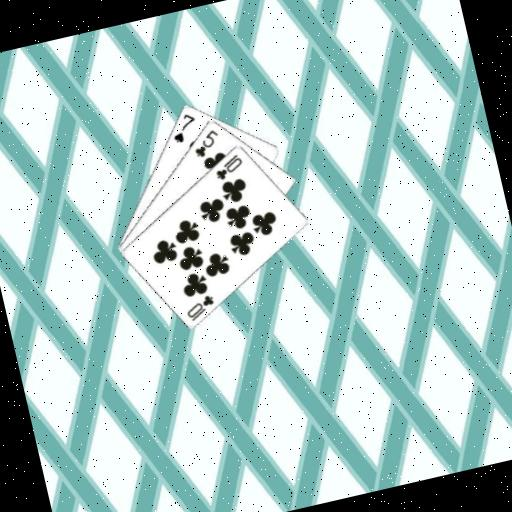10C: (180, 290, 219, 324), (209, 150, 247, 183)
5C: (187, 125, 224, 160)
7S: (165, 108, 201, 146)
